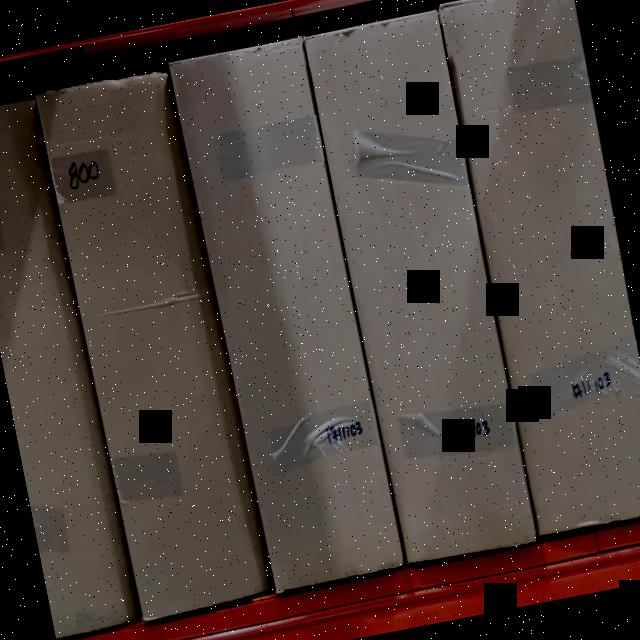box: (305, 12, 537, 564), (174, 40, 403, 592), (41, 70, 271, 616), (440, 0, 640, 536)
